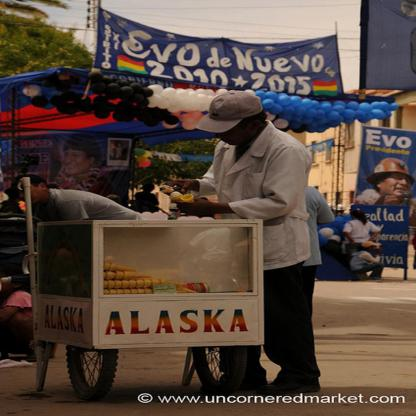face: (214, 118, 253, 146), (381, 170, 413, 196), (64, 150, 93, 175), (16, 186, 43, 204), (1, 274, 14, 290), (331, 240, 339, 247), (371, 246, 376, 251)
